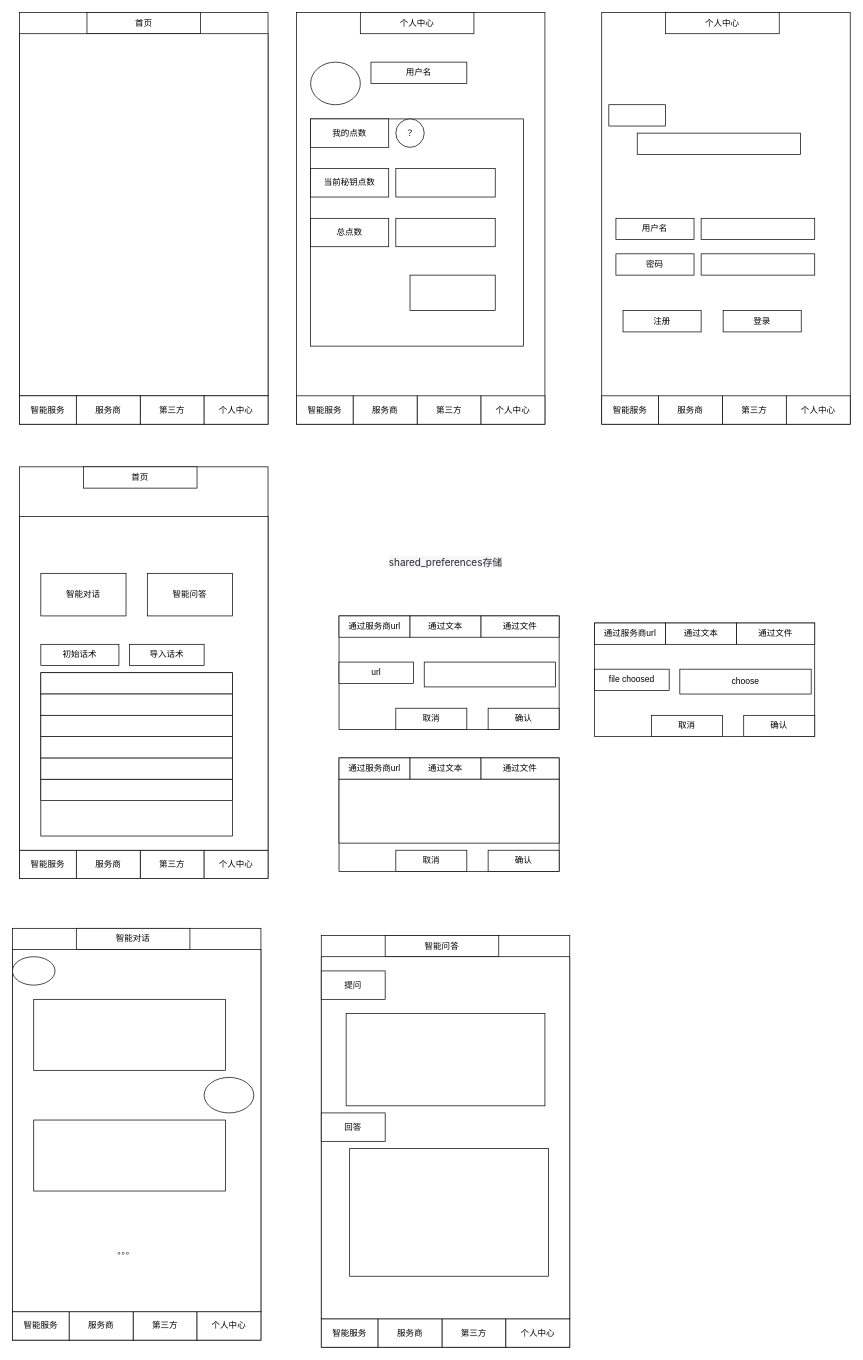
Image size: 863x1360. Some labels were removed from this diagram. Each missing label, with the centre of its shape:
充值: point (452, 292)
服务商网址: point (637, 115)
